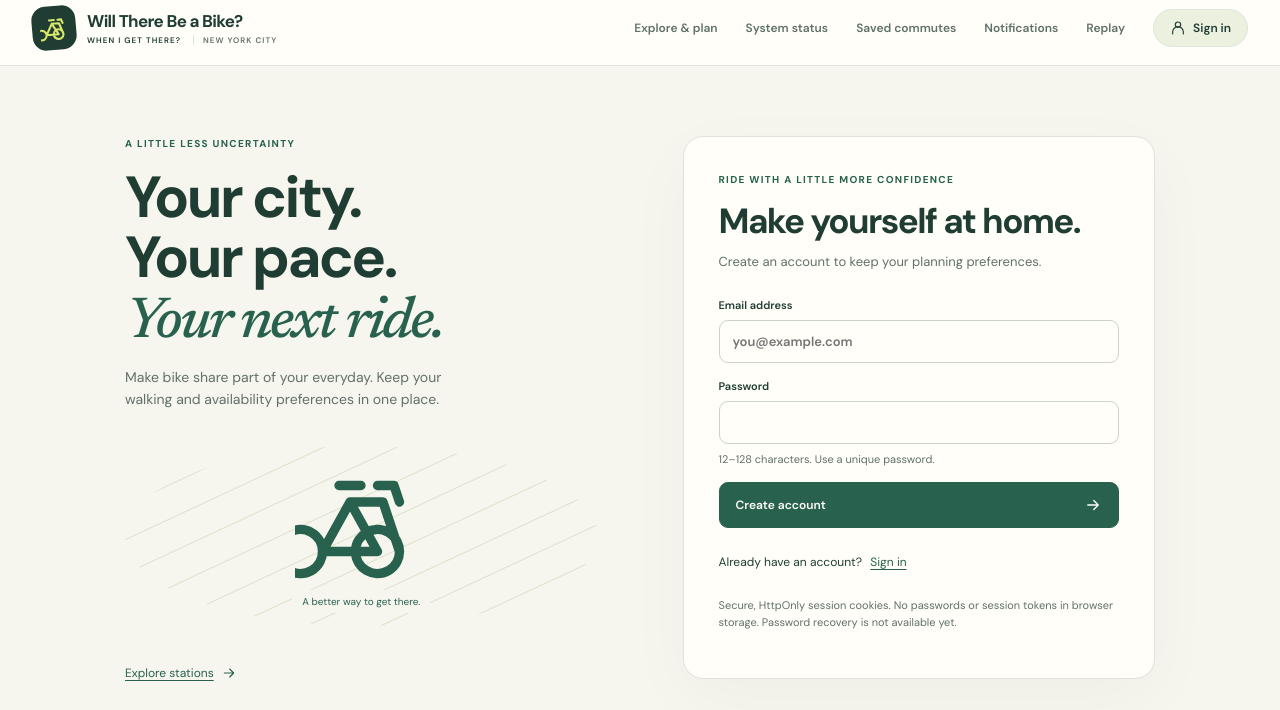
it: completes register without storing credentials in localStorage
Type "rider@example.test" into the field labelled "Email address".
click(919, 342); type("rider@example.test")  # box x1=718 y1=320 x2=1119 y2=363
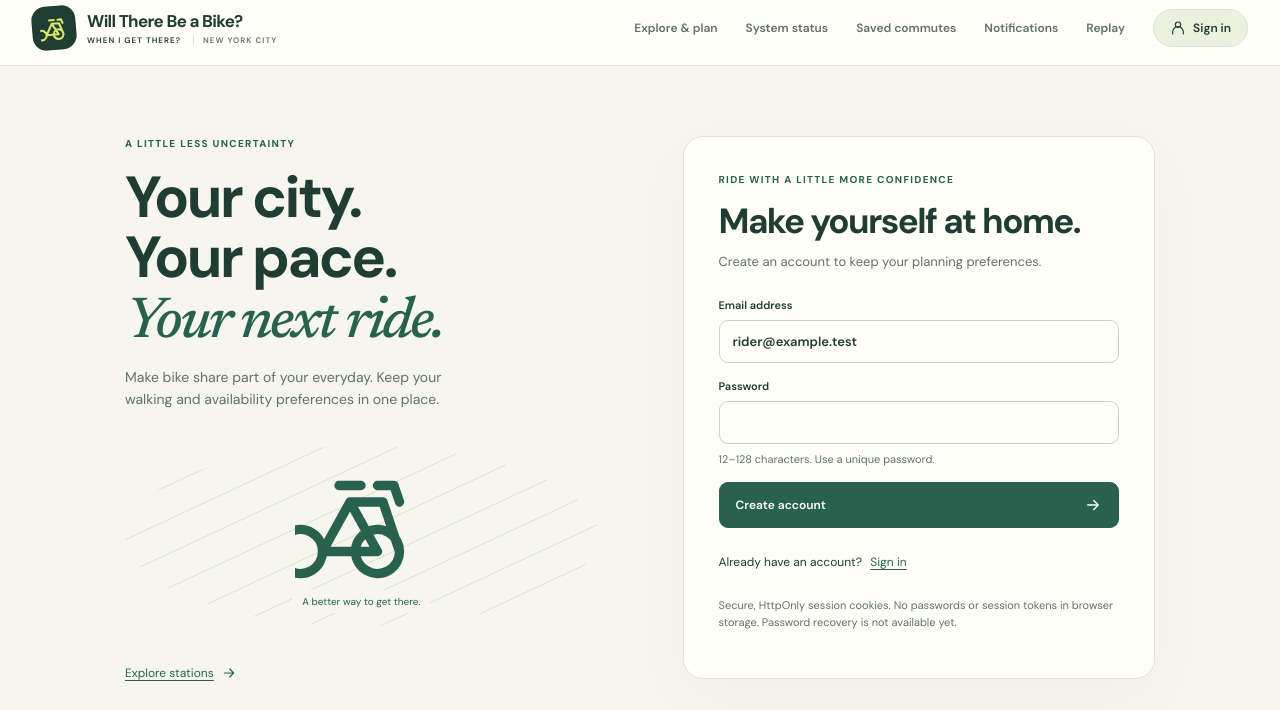
Type "test-only-password-123" into the password field labelled "Password".
click(919, 422); type("test-only-password-123")  # box x1=718 y1=401 x2=1119 y2=444
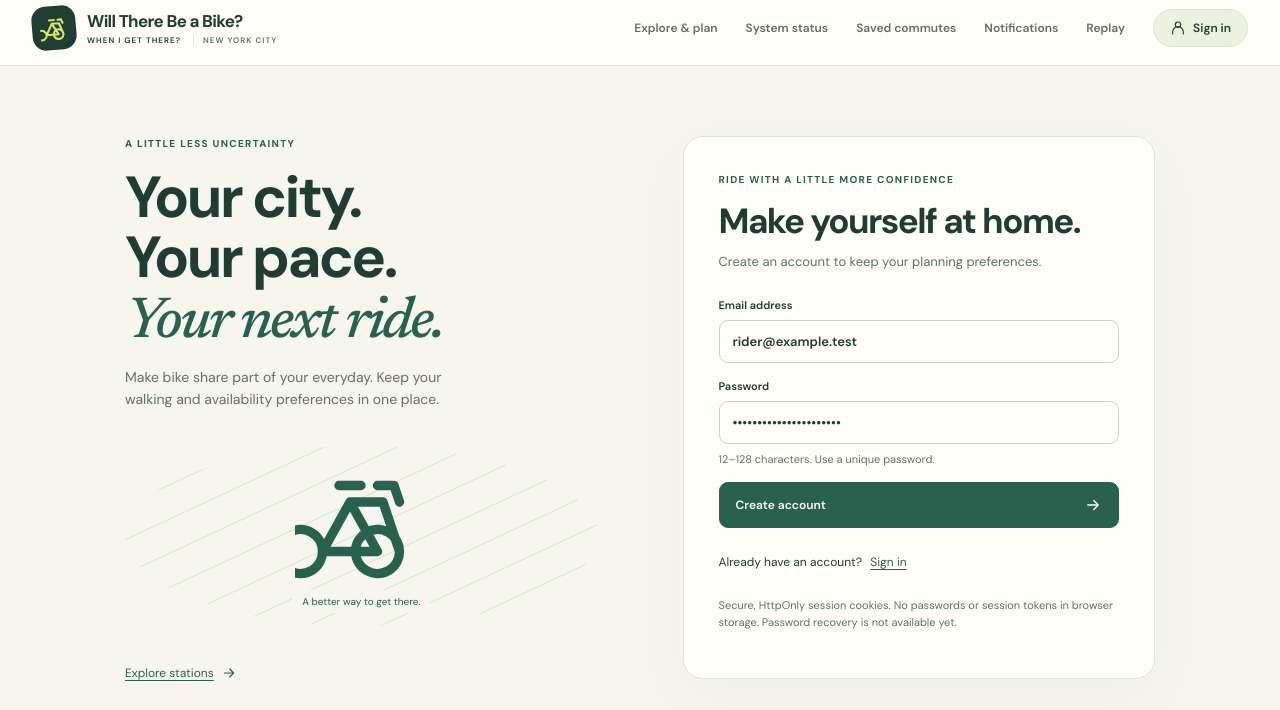
Click the button "Create account".
click(781, 505)  # box x1=718 y1=482 x2=1119 y2=528
(page scrolled)
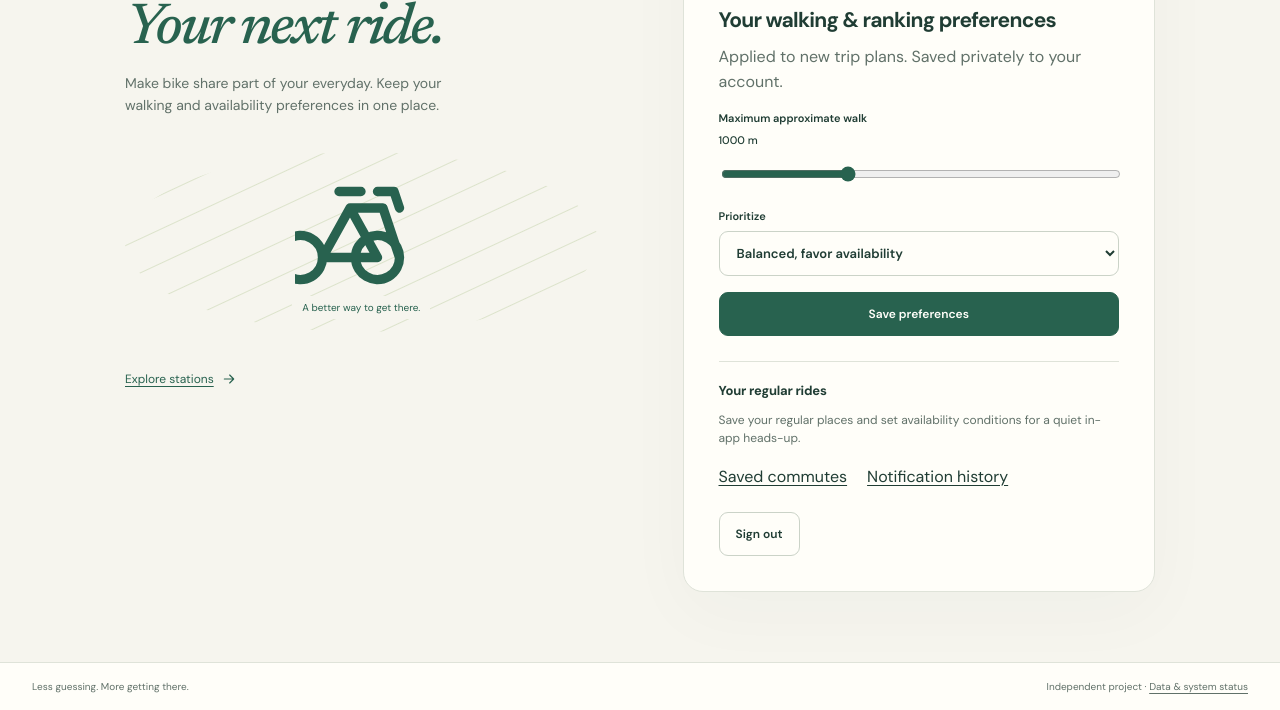
Expected: the link "Notification history" is shown, x1=867 y1=466 x2=1008 y2=487
